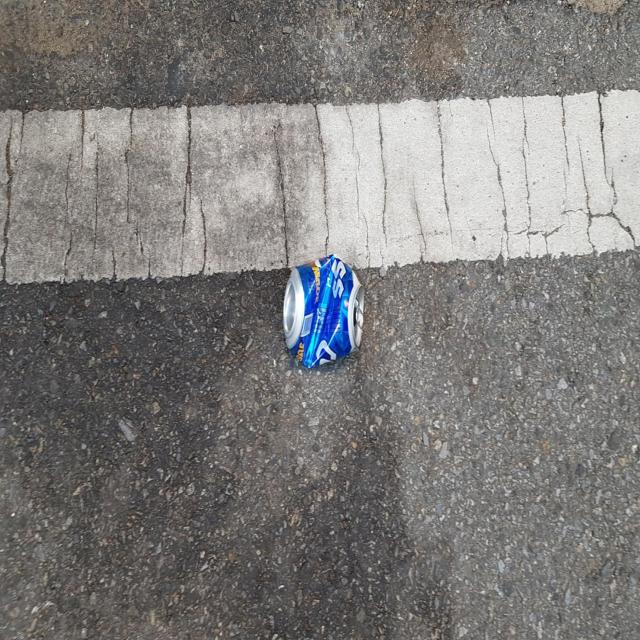can: (283, 253, 364, 367)
